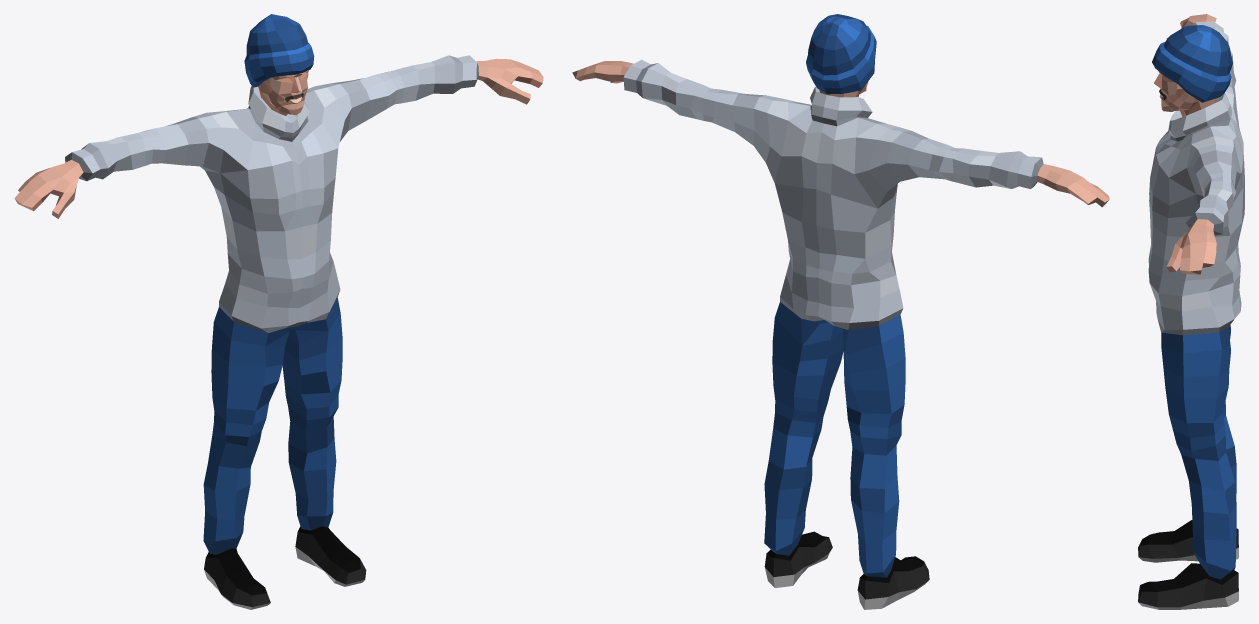
Rendered from winter_Male_B-model.fbx.
The picture shows the model from 3 angles, left to right: view 1: azimuth 30°, elevation 25°; view 2: azimuth 150°, elevation 25°; view 3: azimuth 270°, elevation 25°; orthographic projection. The views are drawn at different scales.
Parts seen in each view (by area): view 1: winter_Male_B, acc_beannieHat; view 2: winter_Male_B, acc_beannieHat; view 3: winter_Male_B, acc_beannieHat.
Boxes of the visible parts, box(x1,y1,x2,y2) form: winter_Male_B: box(14, 55, 543, 609); acc_beannieHat: box(244, 14, 314, 87); winter_Male_B: box(572, 59, 1109, 609); acc_beannieHat: box(806, 14, 876, 93); winter_Male_B: box(1138, 14, 1244, 609); acc_beannieHat: box(1152, 25, 1232, 102).
Size of the model in its own units: 168 by 171 by 29.98.
1 material, 1 textured.
